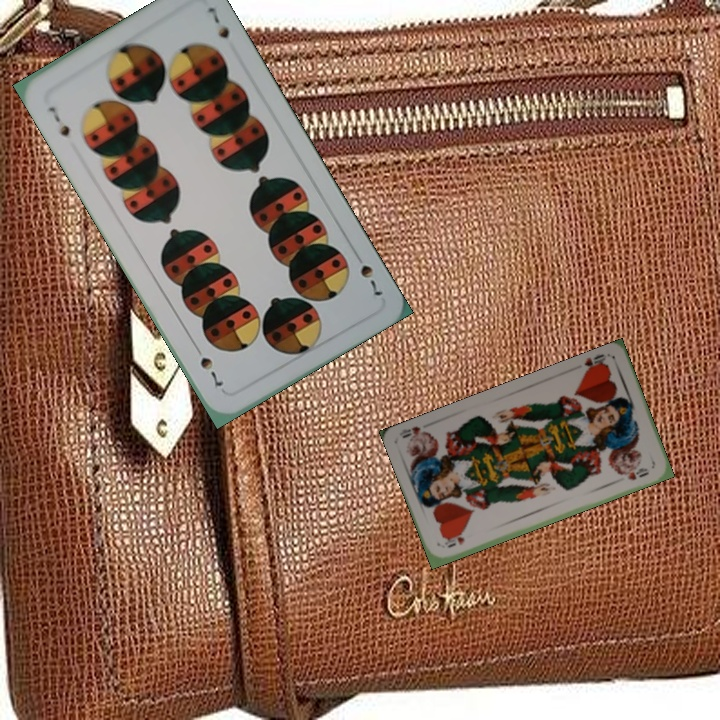HO: (580, 350, 610, 377), (440, 532, 467, 550)
S7: (349, 247, 386, 299), (44, 102, 73, 139)
